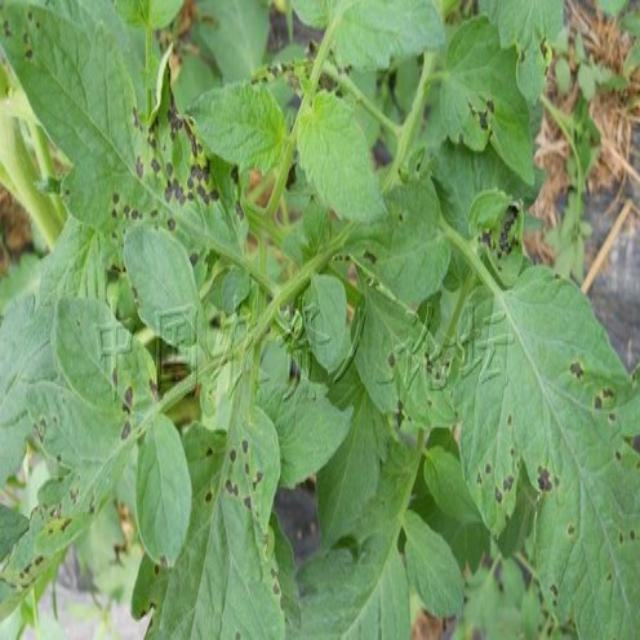Early_blight: (139, 83, 219, 231), (481, 199, 522, 274), (108, 192, 144, 226), (227, 164, 246, 221), (118, 387, 137, 442), (476, 95, 497, 134), (535, 462, 560, 494), (590, 383, 617, 412), (491, 472, 515, 503), (564, 356, 587, 380), (221, 473, 241, 499), (146, 376, 160, 397), (240, 438, 251, 457), (228, 448, 237, 464)
